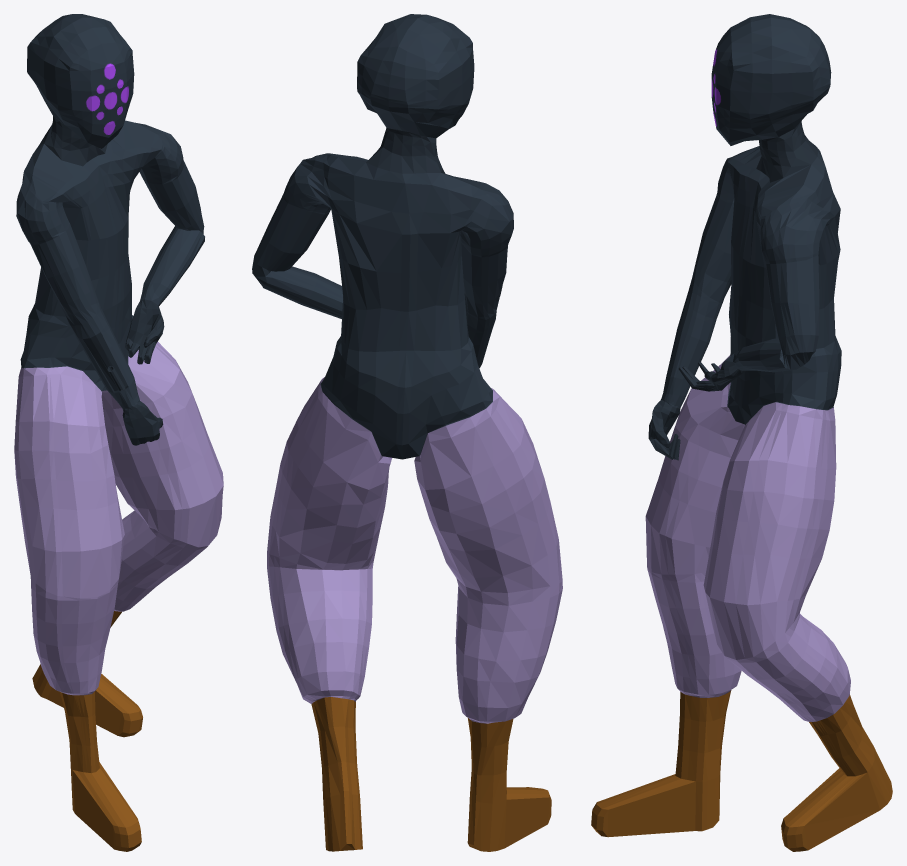
The model's file is Oracle_WF_000022.obj.
The picture shows the model from 3 angles, left to right: view 1: azimuth 30°, elevation 25°; view 2: azimuth 150°, elevation 25°; view 3: azimuth 270°, elevation 25°; orthographic projection. The views are drawn at different scales.
Parts seen in each view (by area): view 1: Cube; view 2: Cube; view 3: Cube.
Boxes of the visible parts, box(x1,y1,x2,y2) form: Cube: box(14, 14, 223, 851); Cube: box(252, 14, 562, 851); Cube: box(591, 14, 892, 851).
Bounding box in the file's own units: 1.18 × 3.89 × 1.28.
